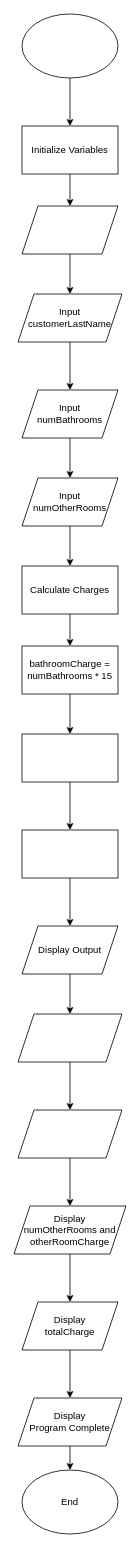
Some shapes in this 140 by 1548 pixel diagram are drawn without their labels. Each missing label, with the centre of its shape:
Collect Input: the point at 69,229
Display customerLastName: the point at 69,1037
Display numBathrooms and bathroomCharge: the point at 69,1133
otherRoomCharge = numOtherRooms *10: the point at 69,757
Start: the point at 69,45
totalCharge = 40 + bathroomCharge + otherRoomCharge: the point at 69,853
